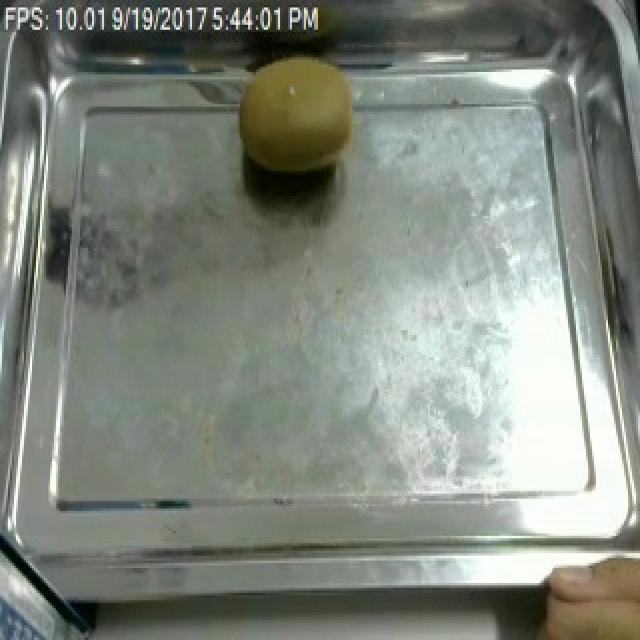Fruit: (232, 42, 356, 186), (518, 543, 640, 640)
